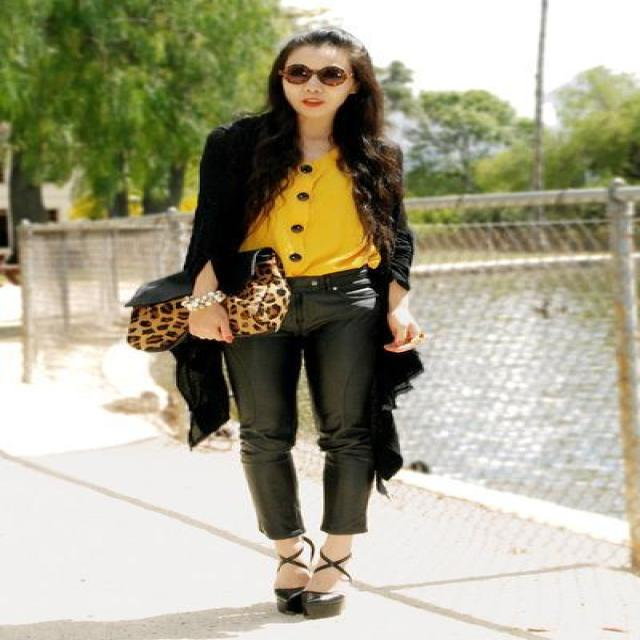bag: (122, 243, 304, 350)
jacket: (173, 115, 422, 447)
pants: (222, 264, 373, 538)
shirt: (240, 154, 379, 275)
shoe: (276, 586, 342, 620)
sunglass: (278, 62, 339, 84)
